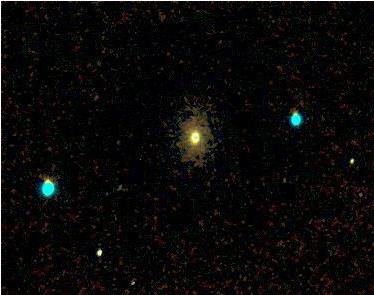star: (78, 85, 108, 115)
